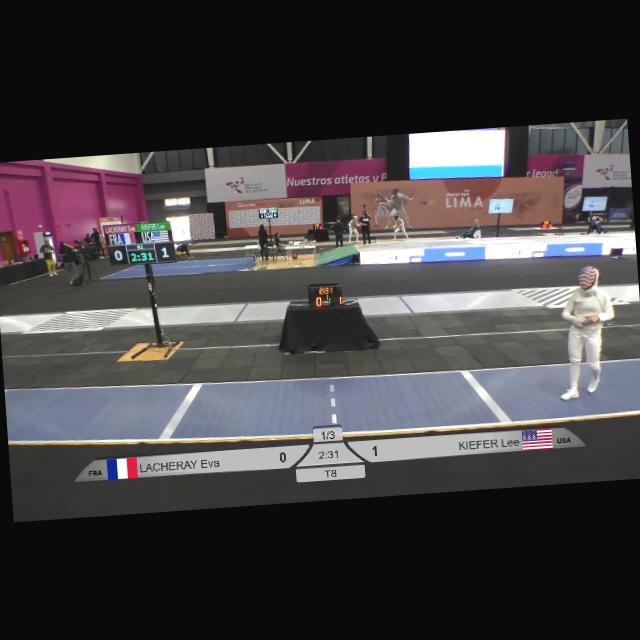blade: (578, 311, 640, 341)
